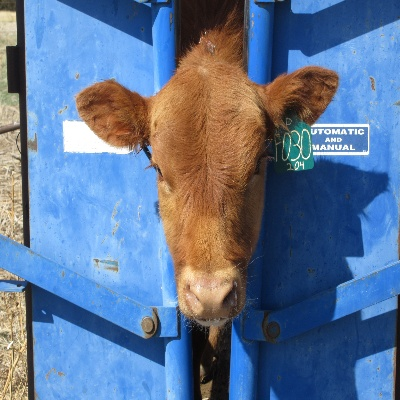fidget_spinner: (182, 280, 240, 321)
